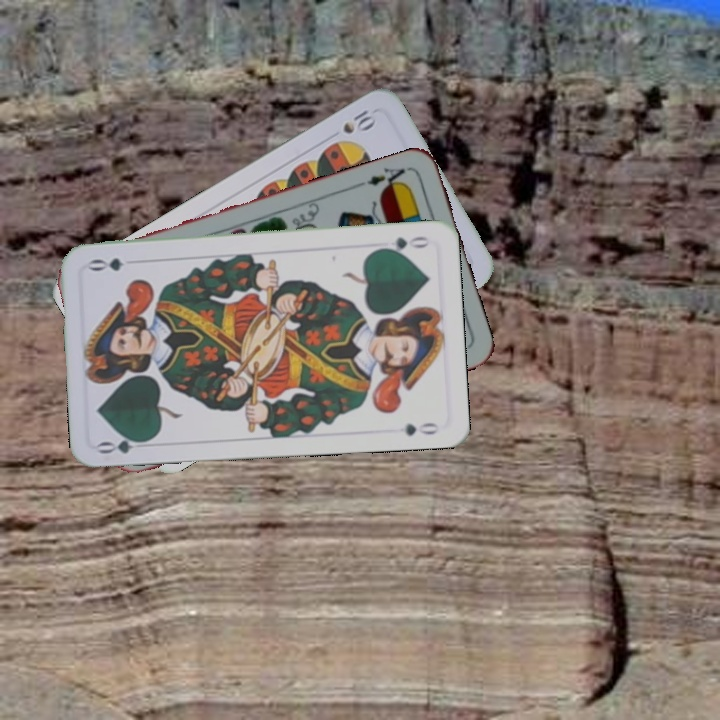EA: (355, 163, 408, 194)
GO: (95, 431, 154, 456), (374, 232, 433, 256)
S10: (338, 105, 379, 137)
